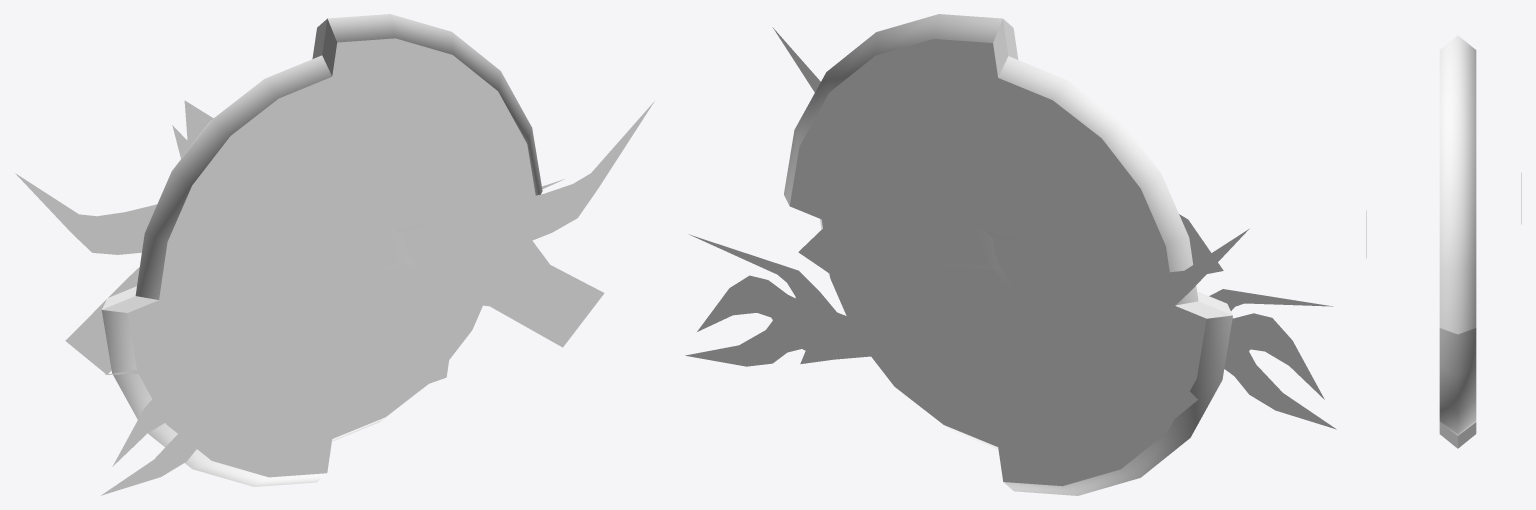
Rendered from view.ico.obj.
3 renders of one model, left to right at view 1: azimuth 30°, elevation 25°; view 2: azimuth 150°, elevation 25°; view 3: azimuth 270°, elevation 25°, orthographic. The views are drawn at different scales.
Bounding box in the file's own units: 4.72 × 3.75 × 1.26.
1 material, 1 textured.
